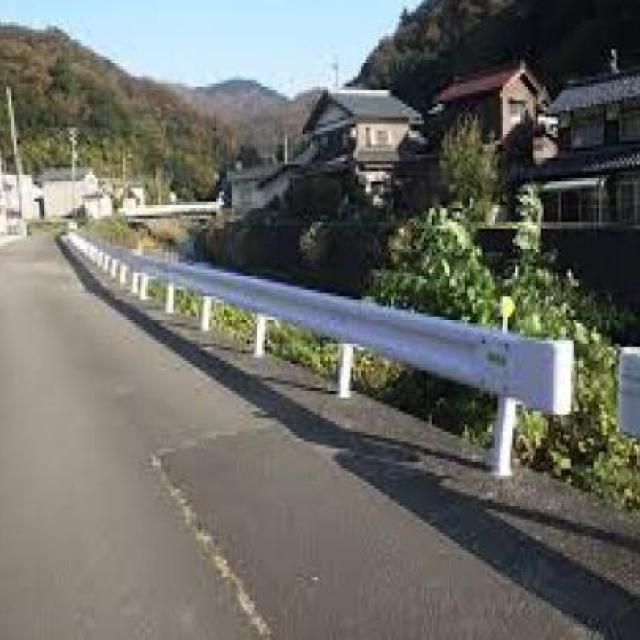Guard rail: (67, 215, 578, 494)
